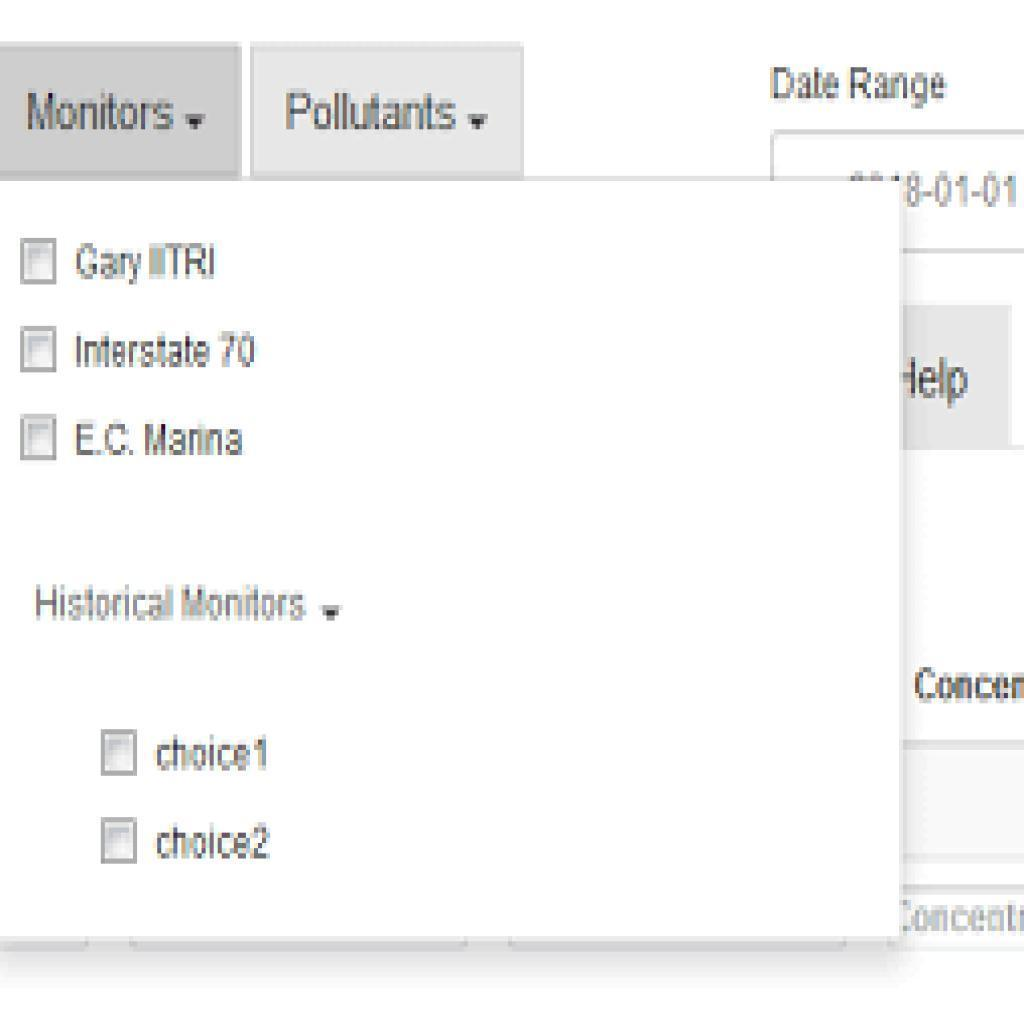checkbox: (21, 238, 58, 287), (20, 327, 57, 374), (101, 731, 139, 776), (102, 819, 139, 865), (21, 417, 58, 461)
dropdown: (248, 45, 527, 180), (1, 42, 244, 180)
label: (71, 417, 247, 465), (74, 331, 259, 375), (71, 240, 222, 289), (152, 821, 276, 869), (155, 737, 275, 777)
